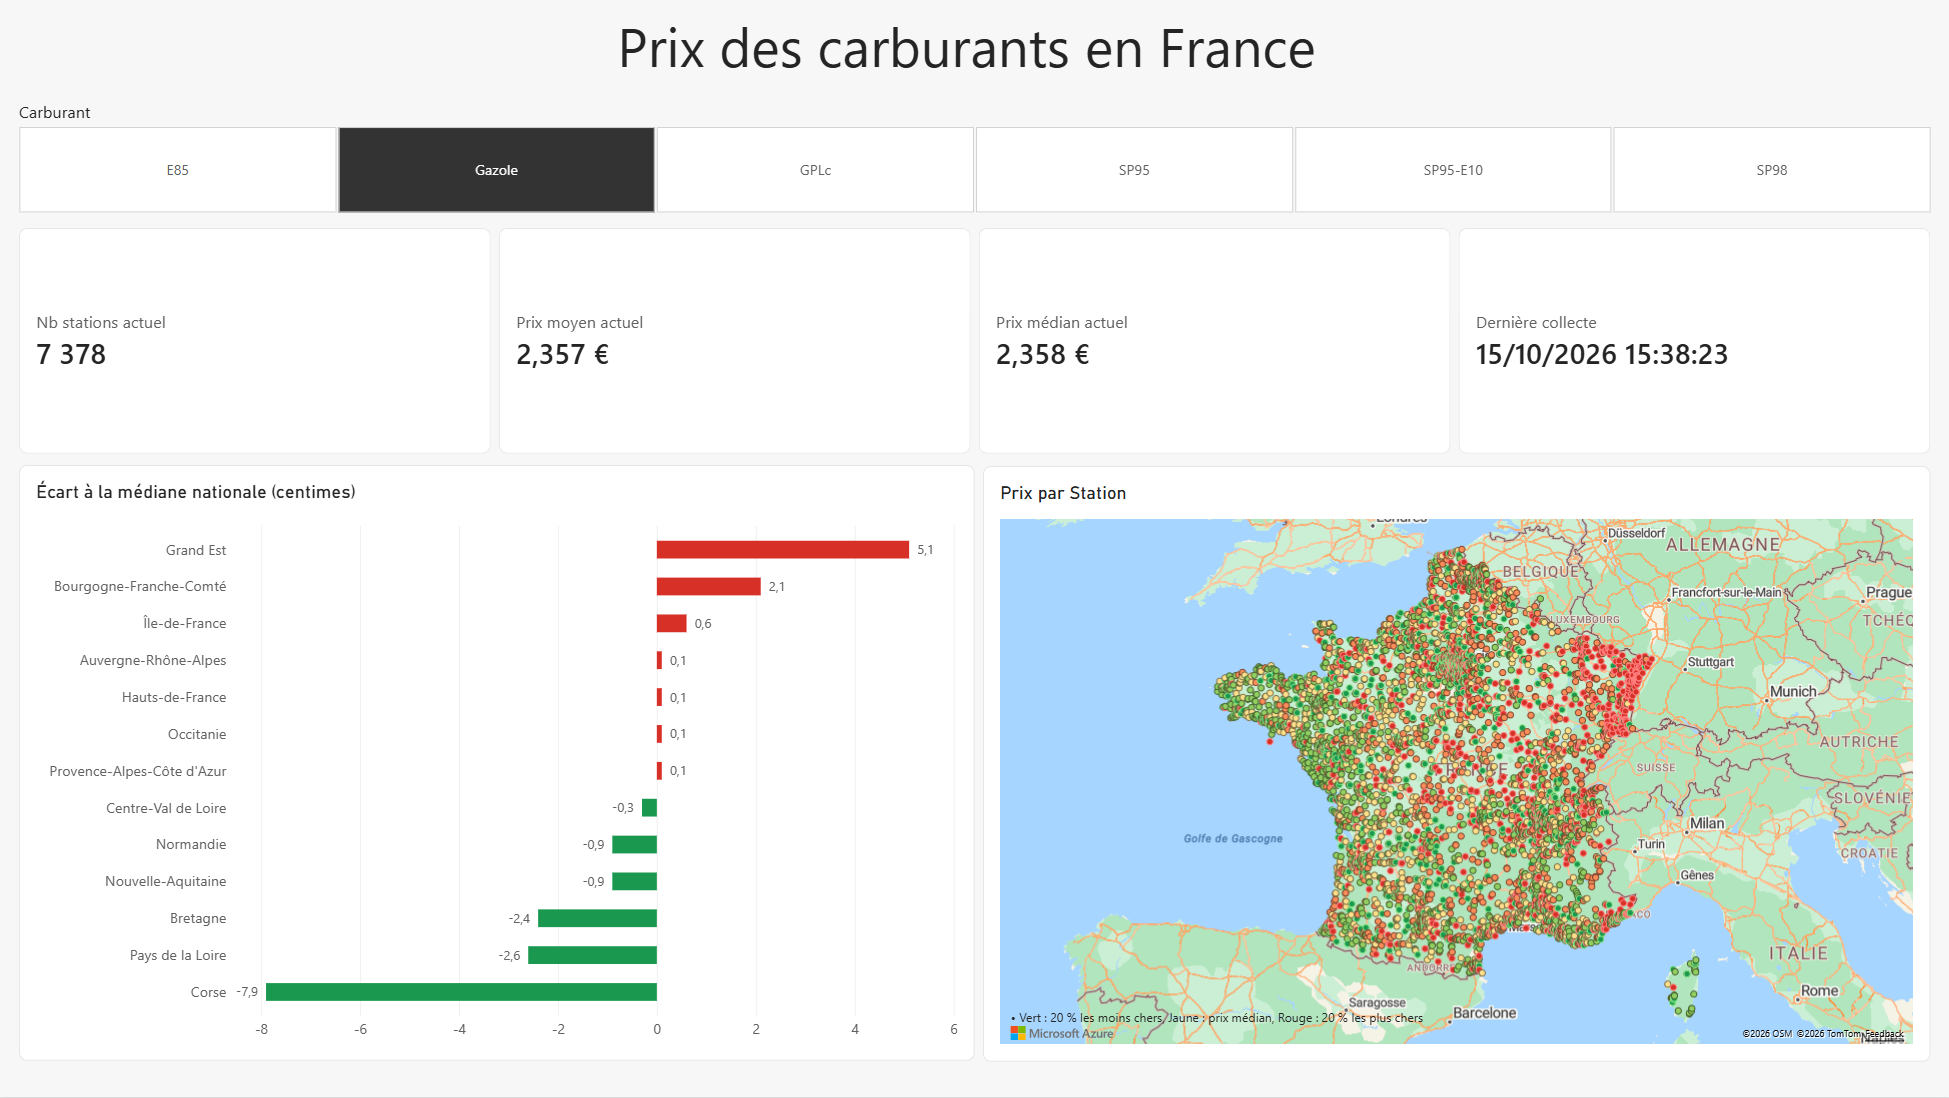

The dashboard page shown, as its layout file describes it:
{"tool":"powerbi","page":{"name":"Vue d’ensemble","canvas":[1920,1080],"ordinal":0},"visuals":[{"type":"slicer","title":"Carburant","fields":{"Values":["Prix.Carburant"]},"box":[0,123.9,1920,87.6],"z":0},{"type":"textbox","box":[0,8.9,1920,91.5],"z":1000},{"type":"cardVisual","fields":{"Data":["_Mesures.Nb stations actuel","_Mesures.Prix moyen actuel","_Mesures.Prix médian actuel","_Mesures.Dernière collecte"]},"box":[20.7,225.2,1880.5,222.8],"z":2000},{"type":"clusteredBarChart","title":"Écart à la médiane nationale (centimes)","fields":{"Category":["Stations.region"],"Y":["_Mesures.Écart médiane nationale (cts)"]},"box":[20.7,458.4,940.3,586.2],"z":3000},{"type":"azureMap","title":"Prix par Station","fields":{"X":["Stations.longitude"],"Y":["Stations.latitude"]},"box":[968.9,459.3,932.5,586.2],"z":4000},{"type":"textbox","box":[986.6,993.4,617.7,65.9],"z":5000},{"type":"textbox","box":[20.7,100.3,79.7,23.6],"z":6000}]}

Visuals, with their boxes in screenshot pixels (x1, y1, x2, y2), scaled from the page's 1920x1080 canvas onto the 1949x1098 screenshot:
"Carburant" slicer: l=0, t=126, r=1948, b=215
textbox: l=0, t=9, r=1948, b=102
cardVisual - _Mesures.Nb stations actuel x _Mesures.Prix moyen actuel: l=21, t=229, r=1930, b=455
"Écart à la médiane nationale (centimes)" clusteredBarChart: l=21, t=466, r=976, b=1062
"Prix par Station" azureMap: l=984, t=467, r=1930, b=1063
textbox: l=1002, t=1010, r=1629, b=1077
textbox: l=21, t=102, r=102, b=126
